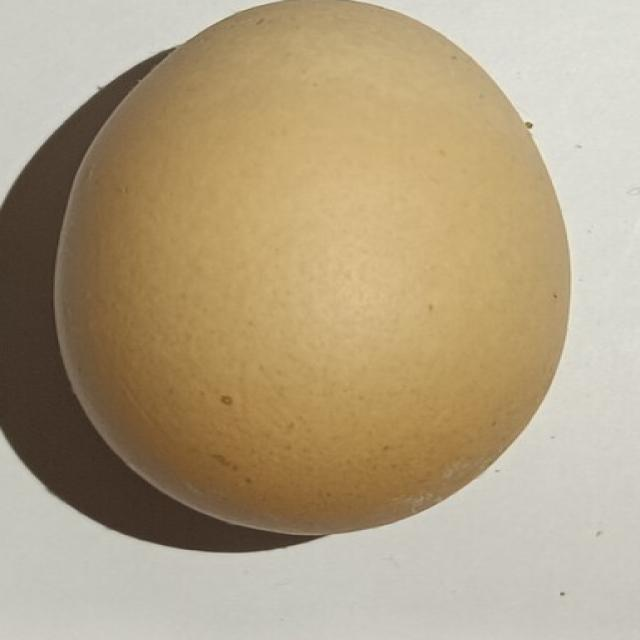fresh: (36, 0, 584, 545)
